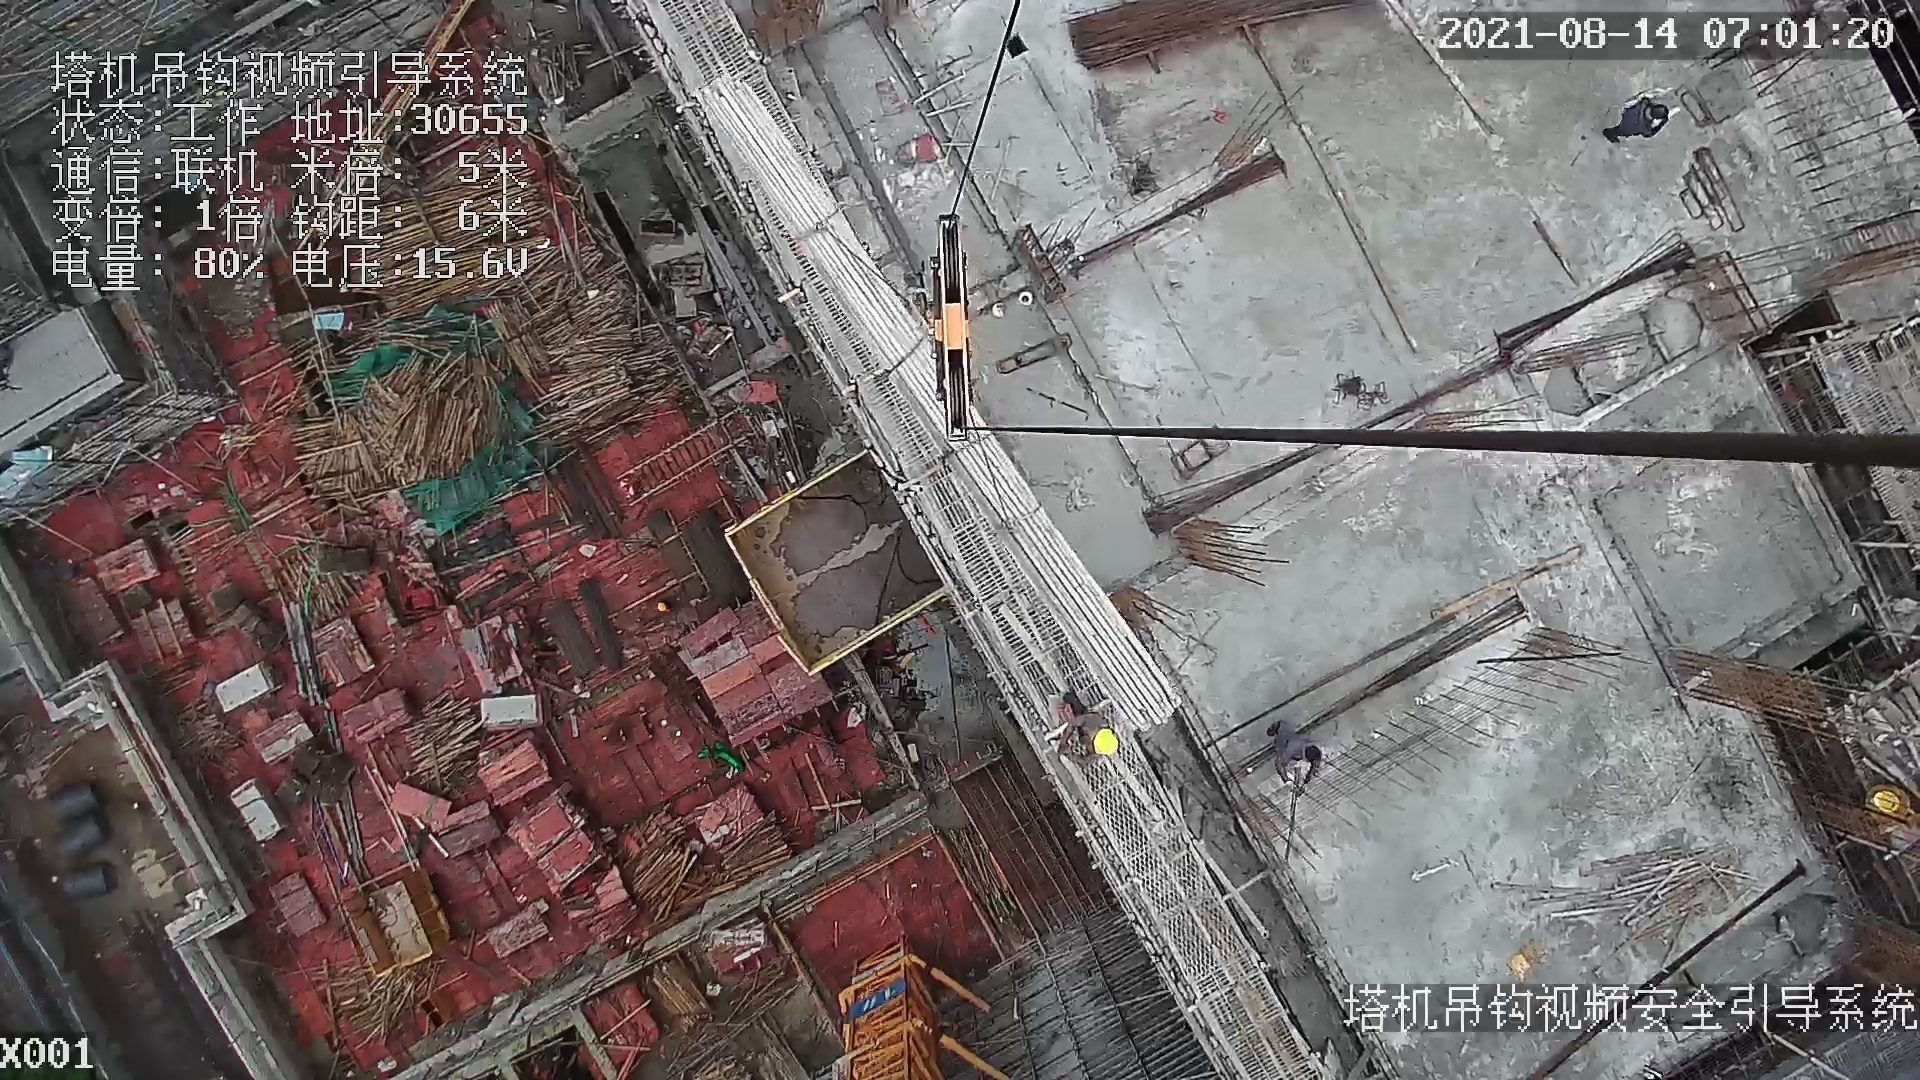helmet: (1090, 721, 1121, 760)
hook: (914, 214, 990, 445)
person: (1046, 685, 1126, 774), (1262, 722, 1326, 805), (1596, 92, 1681, 150)
